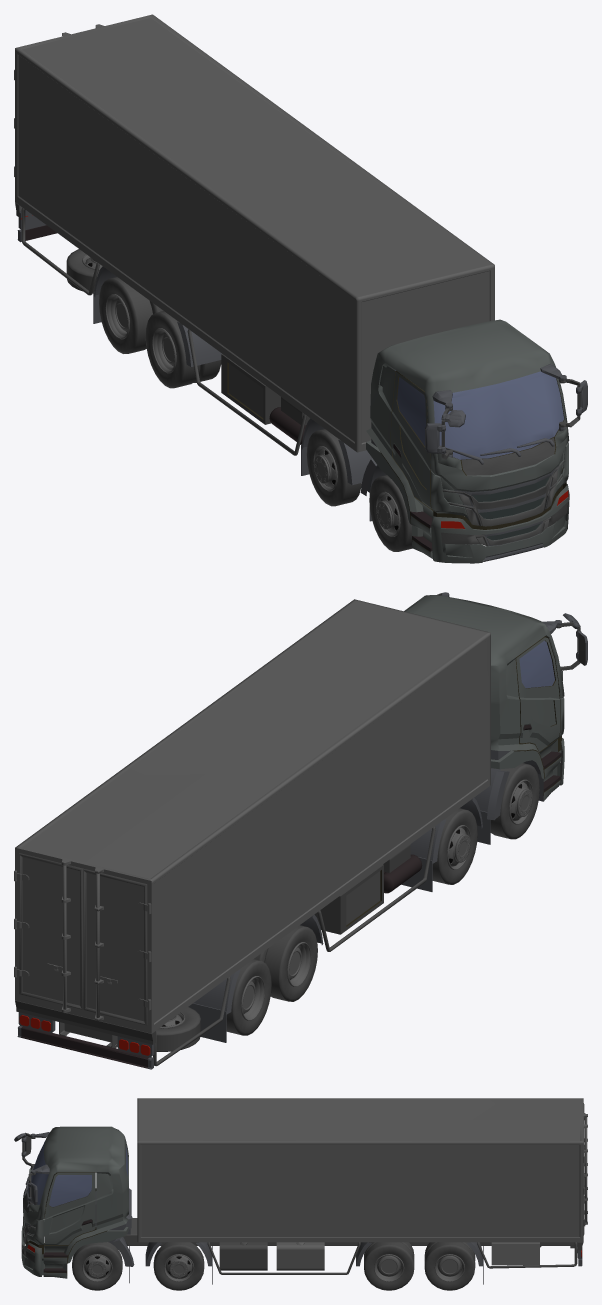
File: truck.obj
3 views of the same model, one above another, from view 1: azimuth 30°, elevation 25°; view 2: azimuth 150°, elevation 25°; view 3: azimuth 270°, elevation 25° (orthographic). The views are drawn at different scales.
Visible parts, largest first — view 1: Truck_body_Truck_body.L; view 2: Truck_body_Truck_body.L; view 3: Truck_body_Truck_body.L.
Boxes of the visible parts, x1=… form: Truck_body_Truck_body.L: x1=14, y1=14, x2=587, y2=563; Truck_body_Truck_body.L: x1=14, y1=592, x2=587, y2=1069; Truck_body_Truck_body.L: x1=14, y1=1098, x2=587, y2=1290.
Size of the model in its own units: 1.99 by 2.6 by 9.07.
